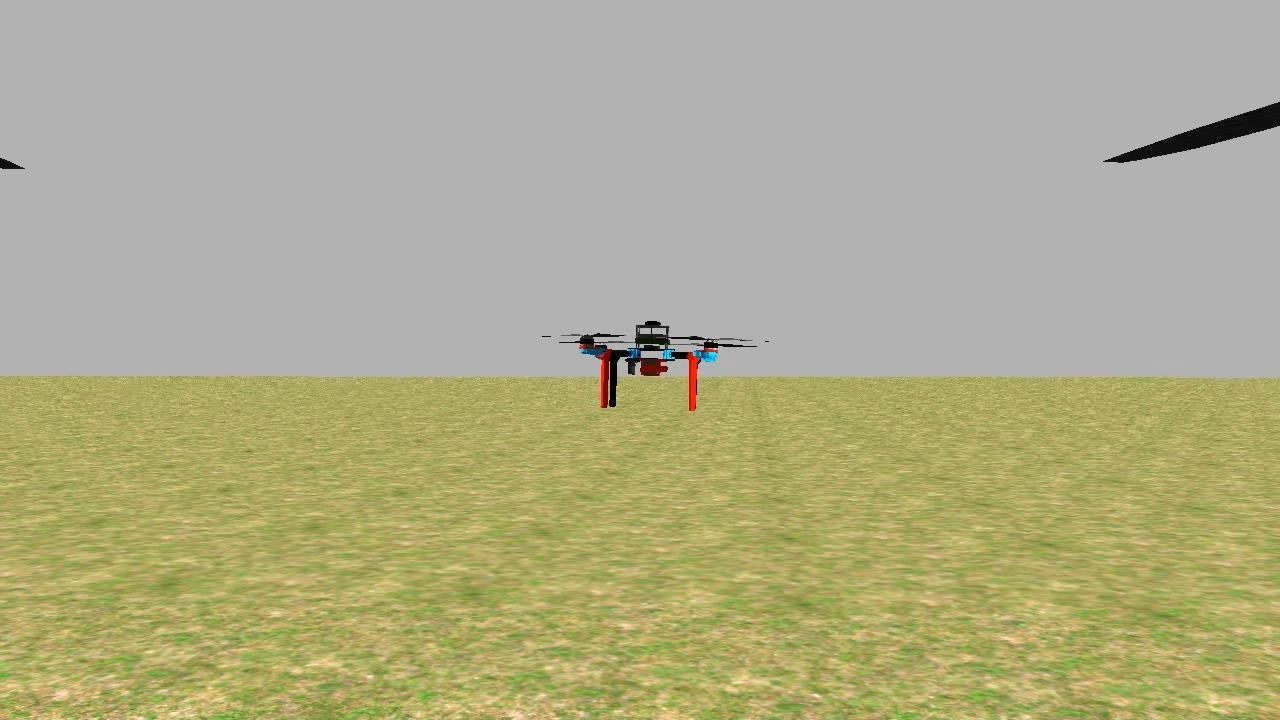UAV: (566, 305, 734, 420)
